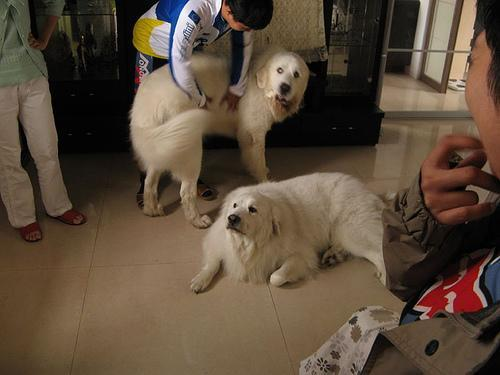Great_Pyrenees: (131, 47, 305, 223), (186, 173, 395, 295)
